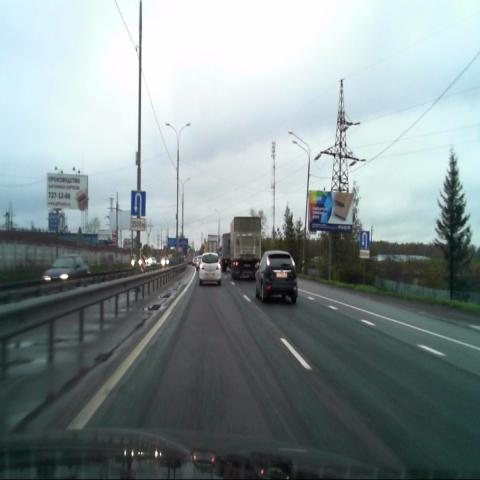6_3_1: (131, 190, 145, 216)
